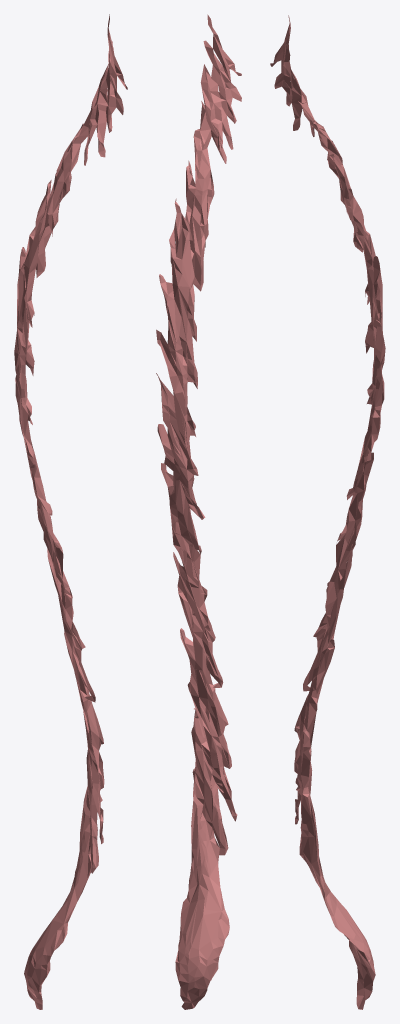
File: Longissimus_thoracis_muscle.r.glb
3 views of the same model, side by side, from view 1: azimuth 90°, elevation 25°; view 2: azimuth 150°, elevation 25°; view 3: azimuth 270°, elevation 25° (orthographic). The views are drawn at different scales.
Parts seen in each view (by area): view 1: Longissimus_thoracis_muscle.r; view 2: Longissimus_thoracis_muscle.r; view 3: Longissimus_thoracis_muscle.r.
Boxes of the visible parts, x1,y1,x2,y2 form: Longissimus_thoracis_muscle.r: (14, 14, 127, 1009); Longissimus_thoracis_muscle.r: (156, 14, 241, 1009); Longissimus_thoracis_muscle.r: (270, 15, 385, 1009).
Bounding box in the file's own units: 0.0361 × 0.633 × 0.0659.
